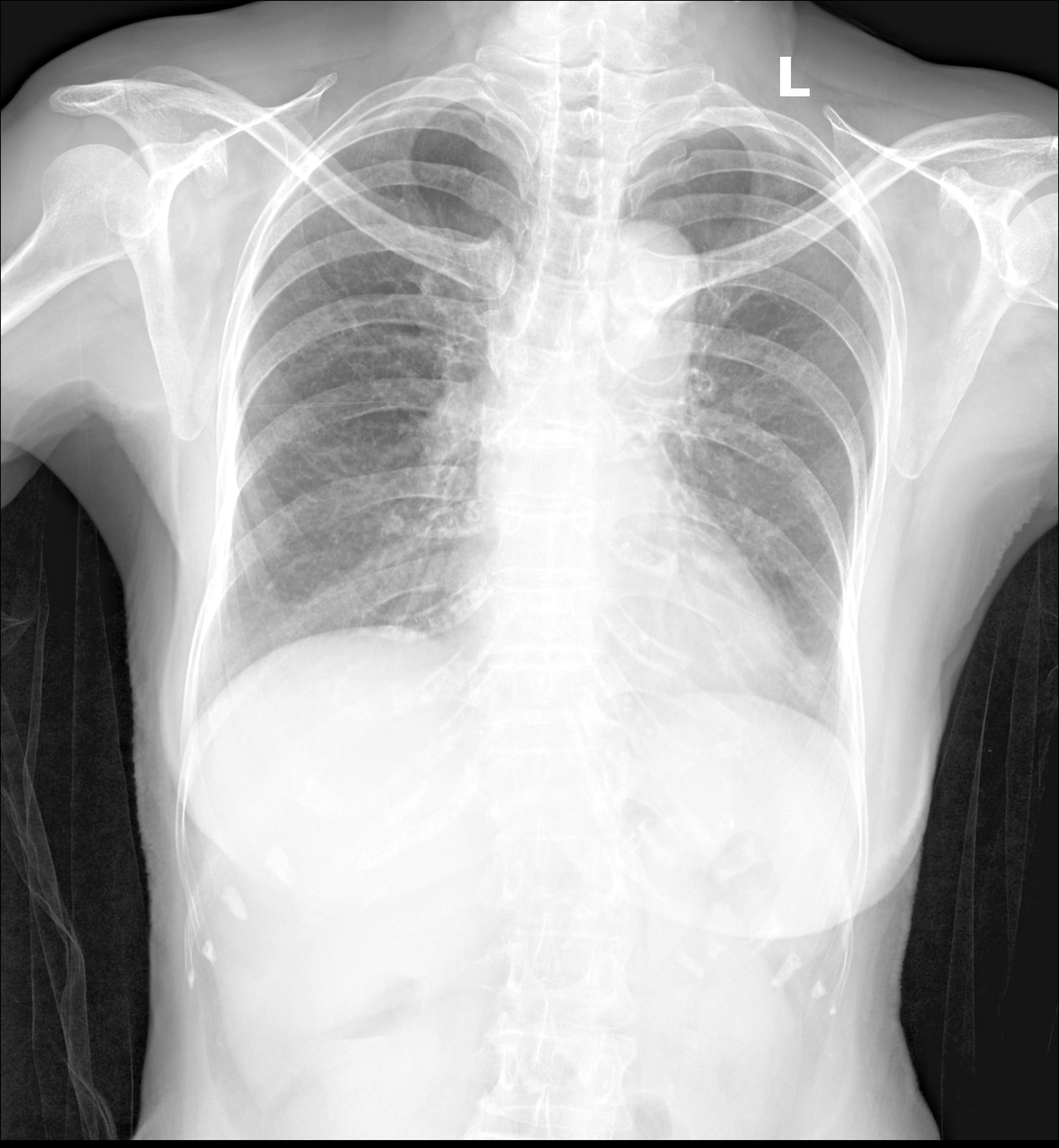Aortic enlargement: (585, 219, 703, 376)
Cardiomegaly: (444, 541, 793, 698)
